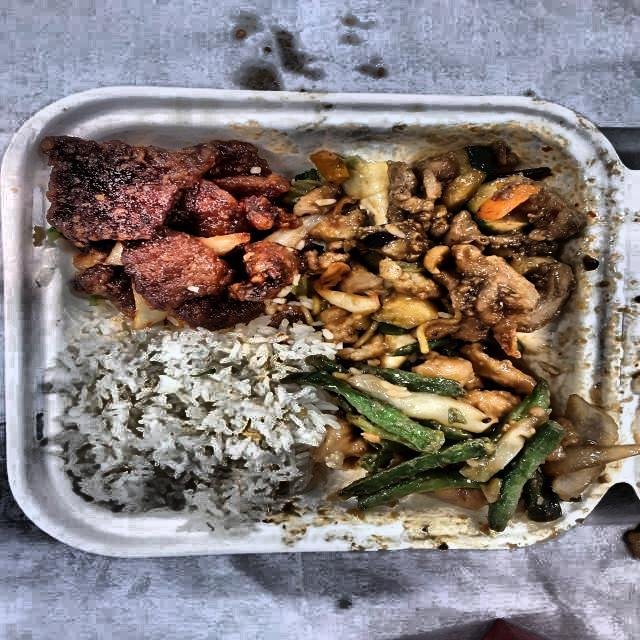Food: (288, 129, 590, 349), (51, 322, 323, 526), (41, 126, 308, 328), (321, 328, 576, 526)
